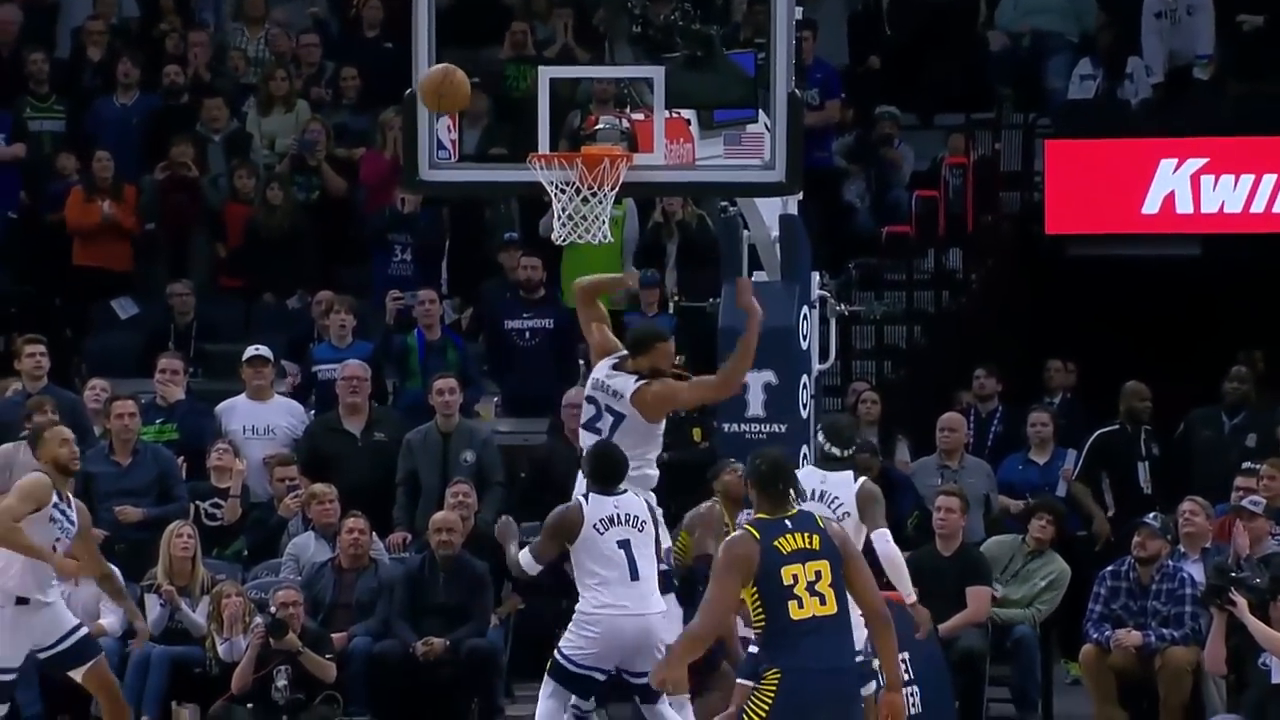ball: (413, 60, 476, 122)
net: (523, 147, 640, 249)
